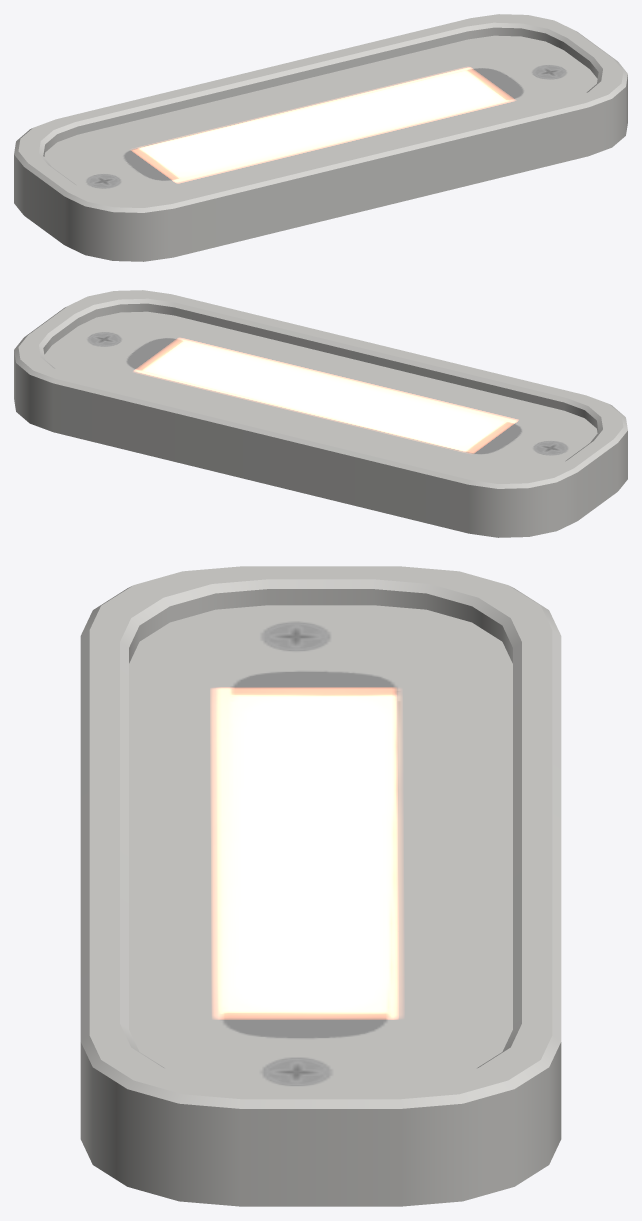
The model's file is SM_Lamp_2_4.fbx.
3 views of the same model, one above another, from view 1: azimuth 30°, elevation 25°; view 2: azimuth 150°, elevation 25°; view 3: azimuth 270°, elevation 25° (orthographic). The views are drawn at different scales.
Visible parts, largest first — view 1: SM_Lamp_2_4_LOD0; view 2: SM_Lamp_2_4_LOD0; view 3: SM_Lamp_2_4_LOD0.
Boxes of the visible parts, <box> form: SM_Lamp_2_4_LOD0: <box>14,14,627,261</box>; SM_Lamp_2_4_LOD0: <box>14,290,627,537</box>; SM_Lamp_2_4_LOD0: <box>80,566,561,1206</box>.
Size of the model in its own units: 16.03 by 1.43 by 6.03.
Materials: 1 (1 with a texture image).
